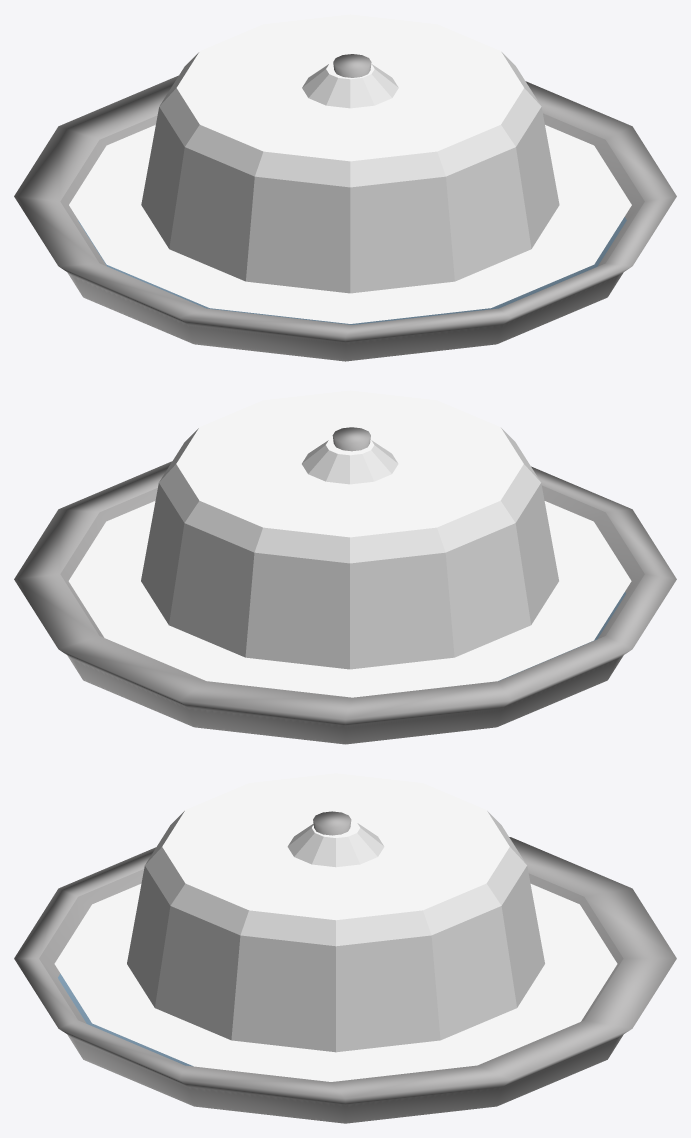
The model's file is fountain.glb.
3 renders of one model, top to bottom at view 1: azimuth 30°, elevation 25°; view 2: azimuth 150°, elevation 25°; view 3: azimuth 270°, elevation 25°, orthographic.
Parts seen in each view (by area): view 1: water, fountain_base; view 2: water, fountain_base; view 3: water, fountain_base.
Part boxes in pixels (x1,y1,x2,y2): water: (69, 14, 631, 323); fountain_base: (14, 54, 676, 361); water: (68, 390, 631, 697); fountain_base: (14, 427, 676, 744); water: (54, 773, 617, 1081); fountain_base: (14, 811, 676, 1123).
Size of the model in its own units: 3.78 by 1.11 by 3.78.
3 materials, 1 textured.
